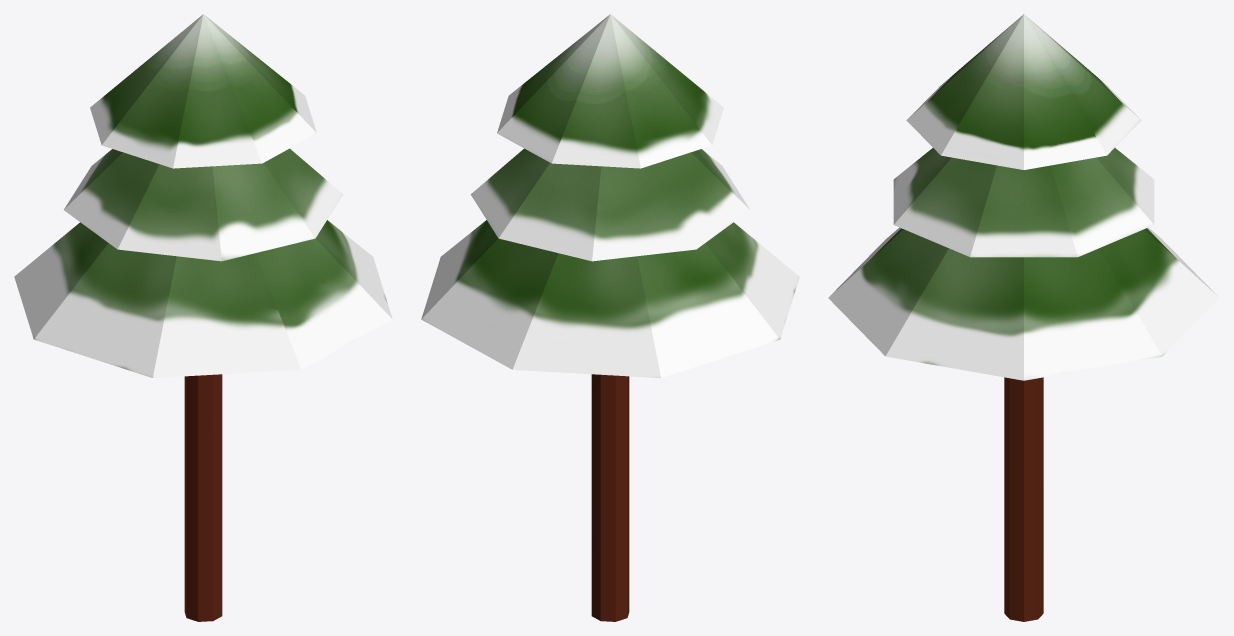
The model's file is tree_pine.glb.
3 renders of one model, left to right at view 1: azimuth 30°, elevation 25°; view 2: azimuth 150°, elevation 25°; view 3: azimuth 270°, elevation 25°, orthographic.
Visible parts, largest first — view 1: Cylinder; view 2: Cylinder; view 3: Cylinder.
Part boxes in pixels (x1,y1,x2,y2): Cylinder: (14, 14, 392, 621); Cylinder: (421, 14, 799, 621); Cylinder: (828, 14, 1219, 621).
Size of the model in its own units: 5 by 8.45 by 5.
1 material, 1 textured.
